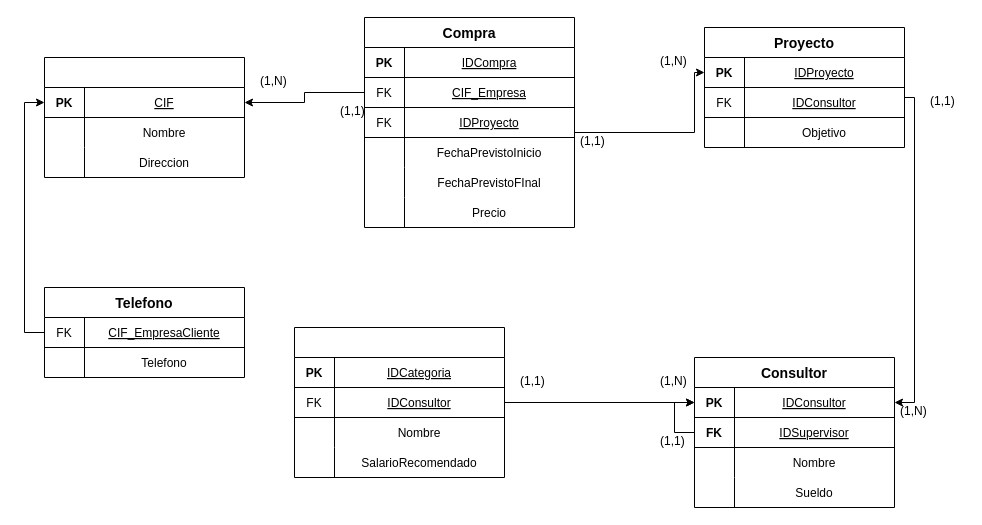
This 982x525 diagram has some shape labels left out. The box of each missing label's shape, as (x1, y1, x2, y2) in pixels:
CategoriaProfesional: (294, 326, 504, 478)
EmpresaCliente: (44, 56, 244, 178)
